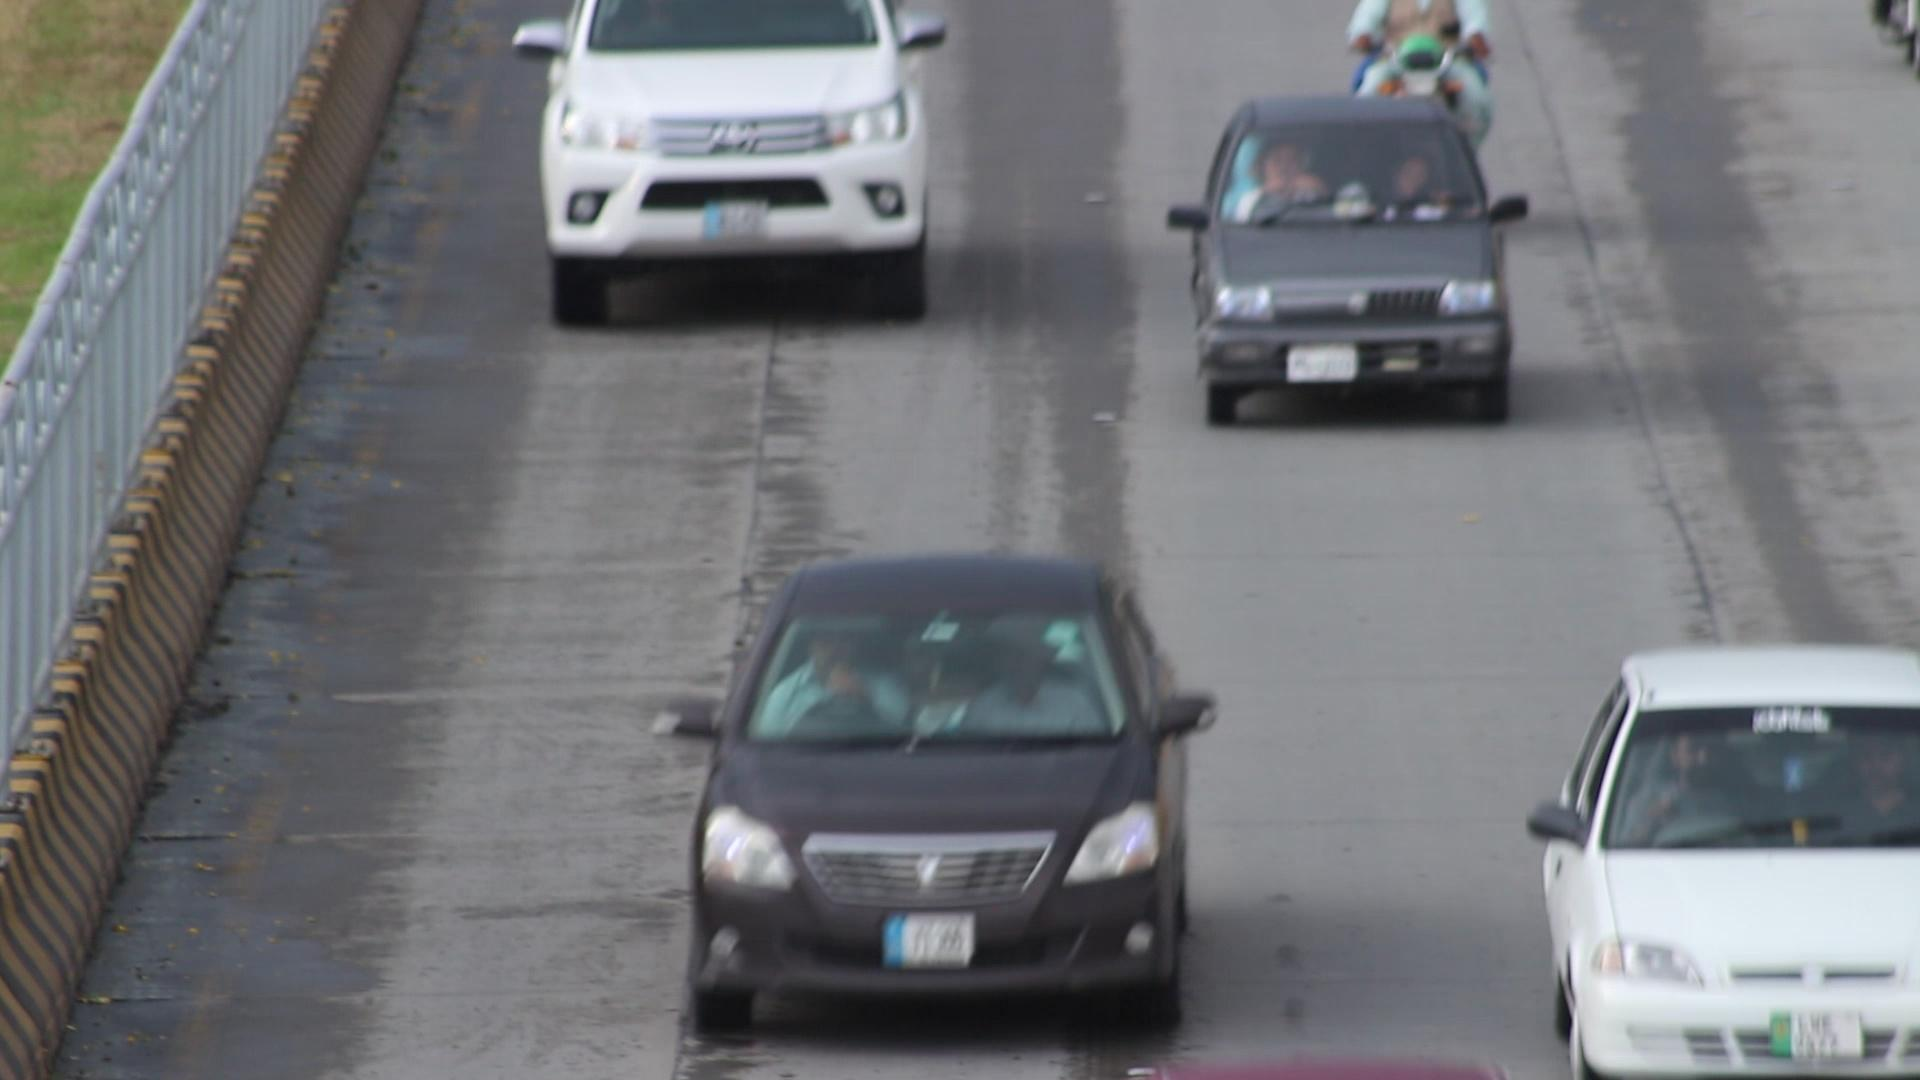windshield: (731, 587, 1141, 753), (1211, 103, 1510, 227)
